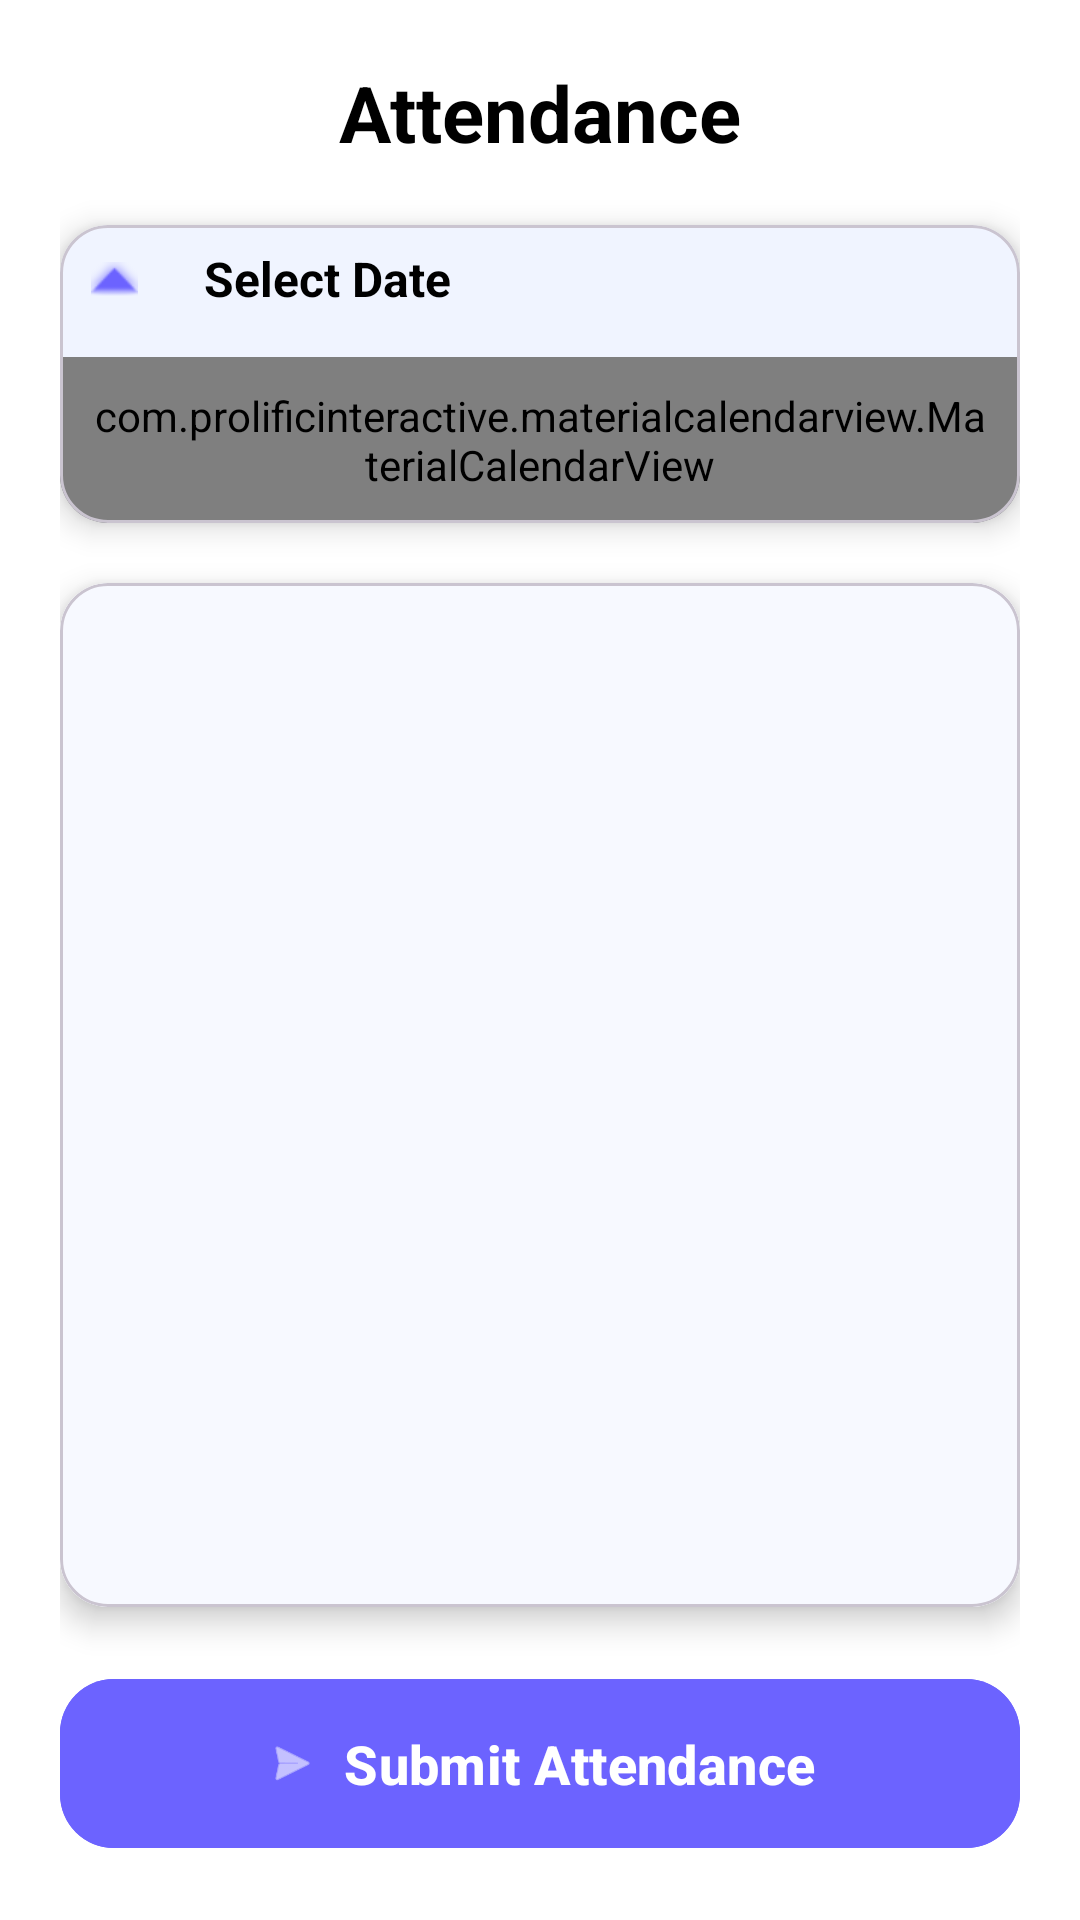

Screen size 1080w x 1920h. Icon name, then its center in pixels as (x,y):
Toggle Calendar: (114,280)
